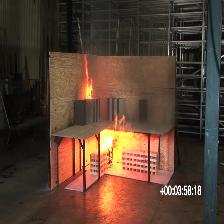fire: (101, 115, 141, 165), (84, 53, 93, 99)
